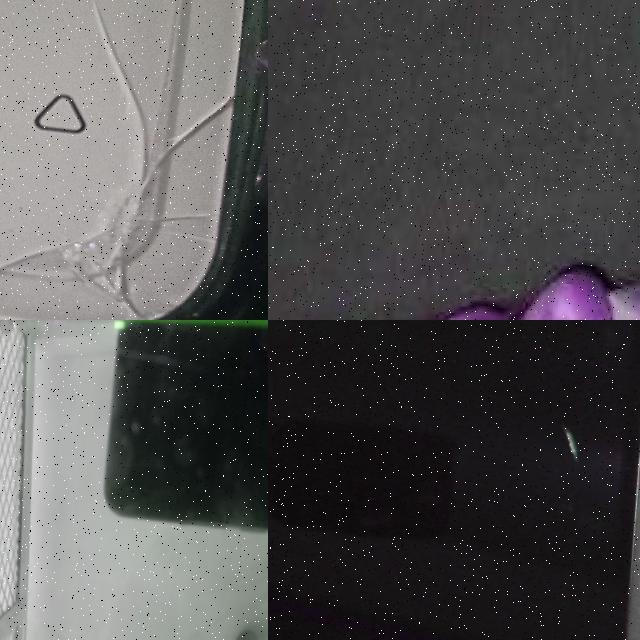scratch: (559, 405, 594, 454)
screen crack: (0, 0, 268, 320), (0, 320, 65, 368)
